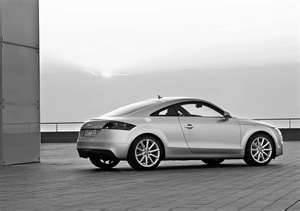car: (73, 94, 286, 175)
